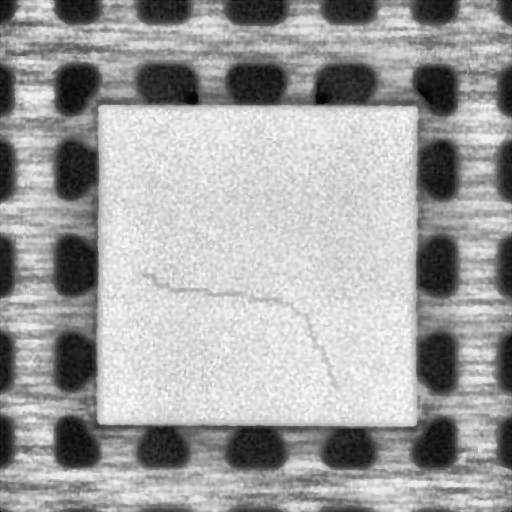DIE_CRACK: (142, 270, 337, 389)
